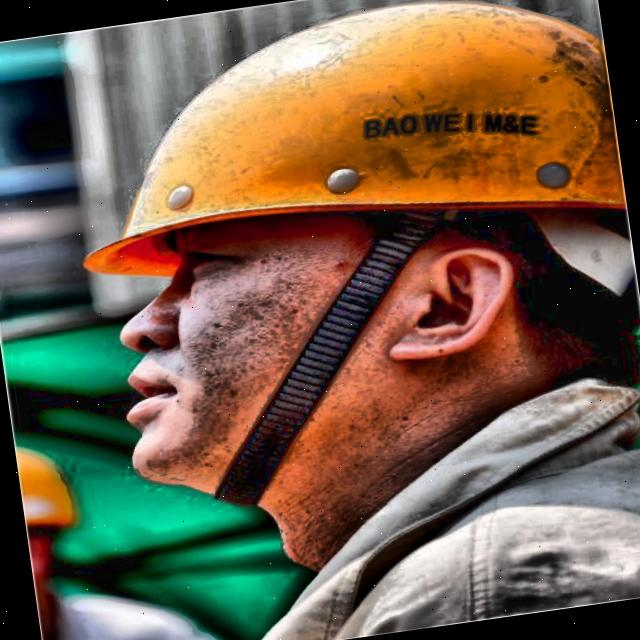helmet: (46, 0, 640, 553)
